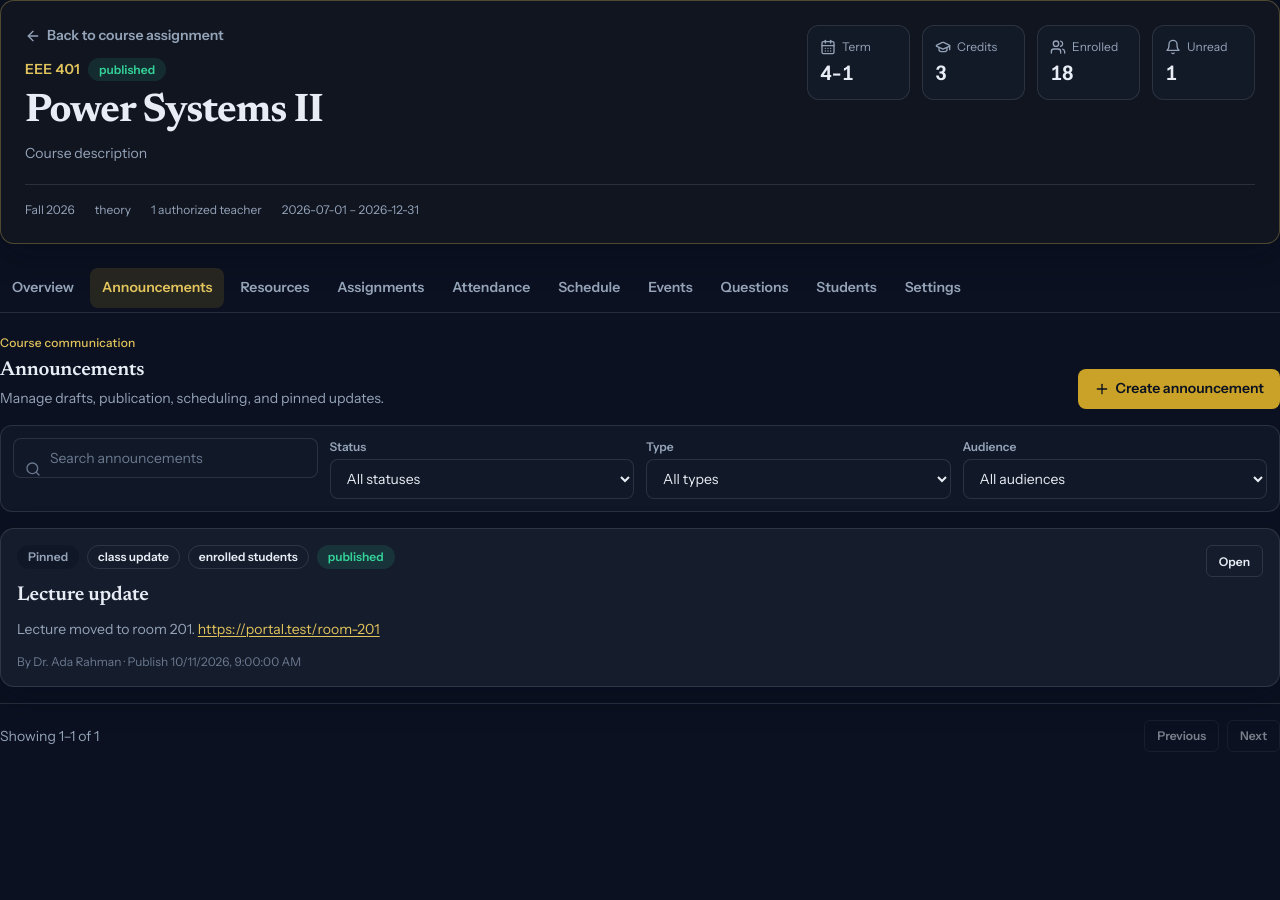
Scenario: CourseWorkspacePage › keeps the announcement dialog open after a save error and allows retry with the same entries
This screenshot has width=1280, height=900.
Click the button "Create announcement": (1179, 389) [1078,369,1279,409]
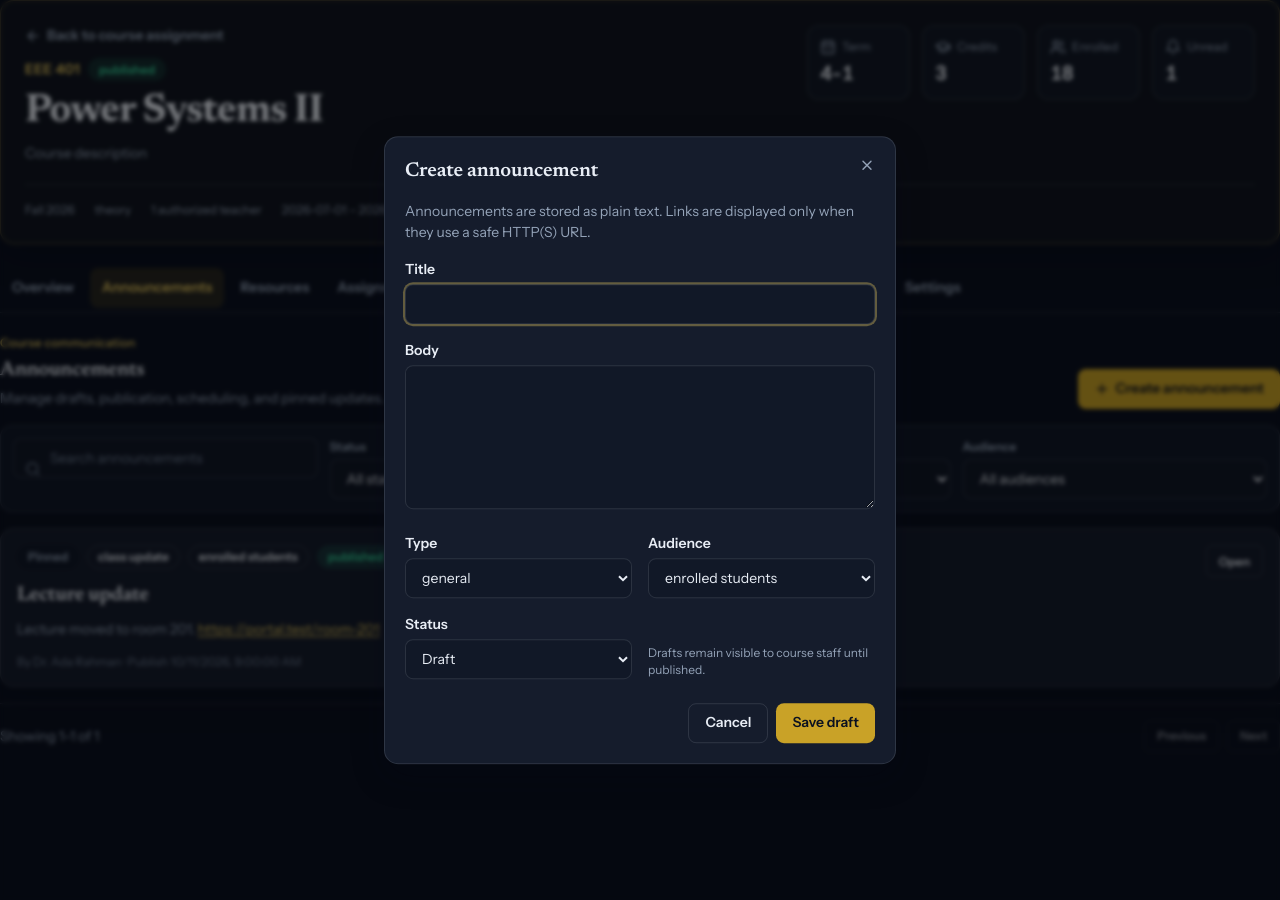
In the field labelled "Title": (640, 304) [405,284,875,324], type "Retry notice"
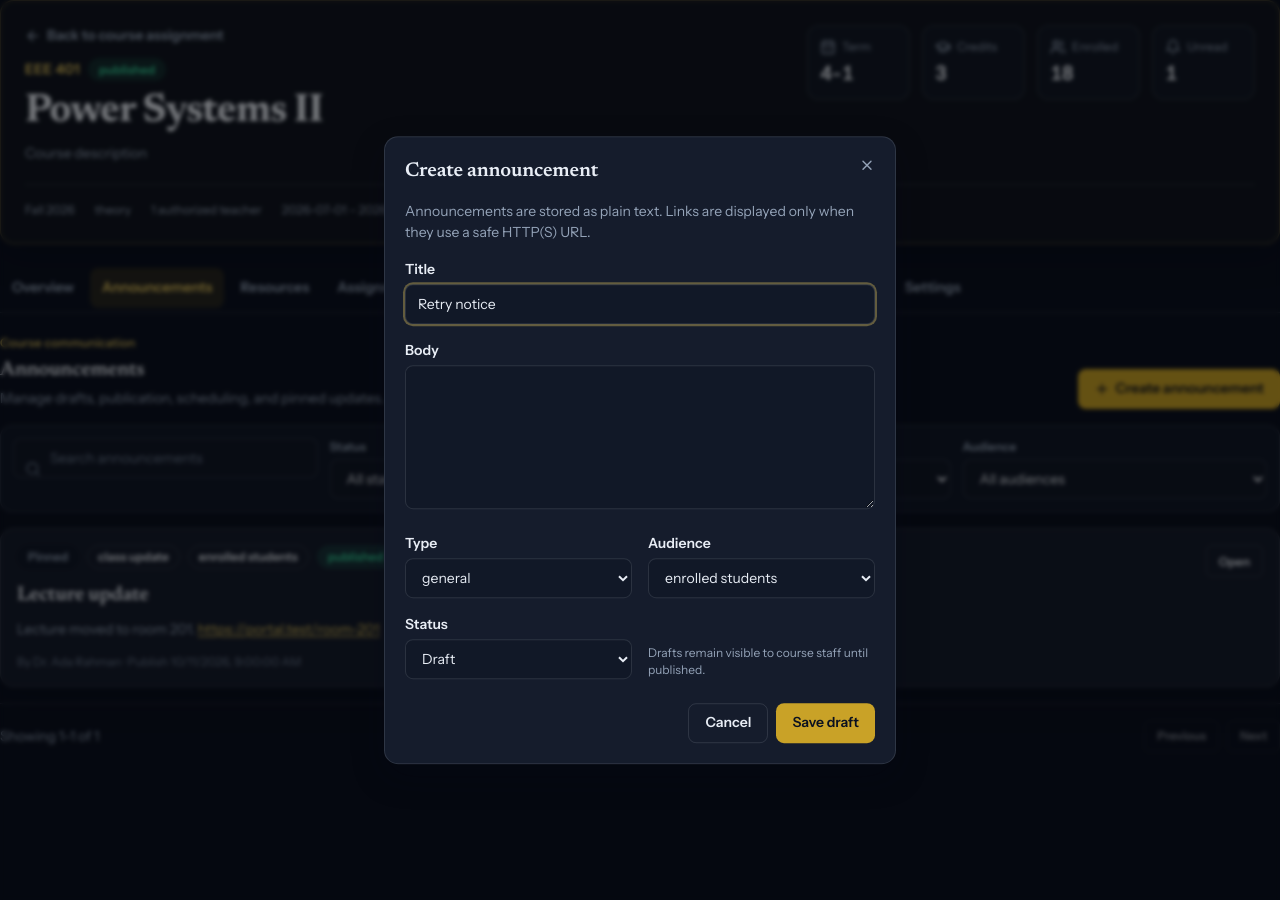
In the text box labelled "Body": (640, 437) [405,365,875,509], type "Keep this body"
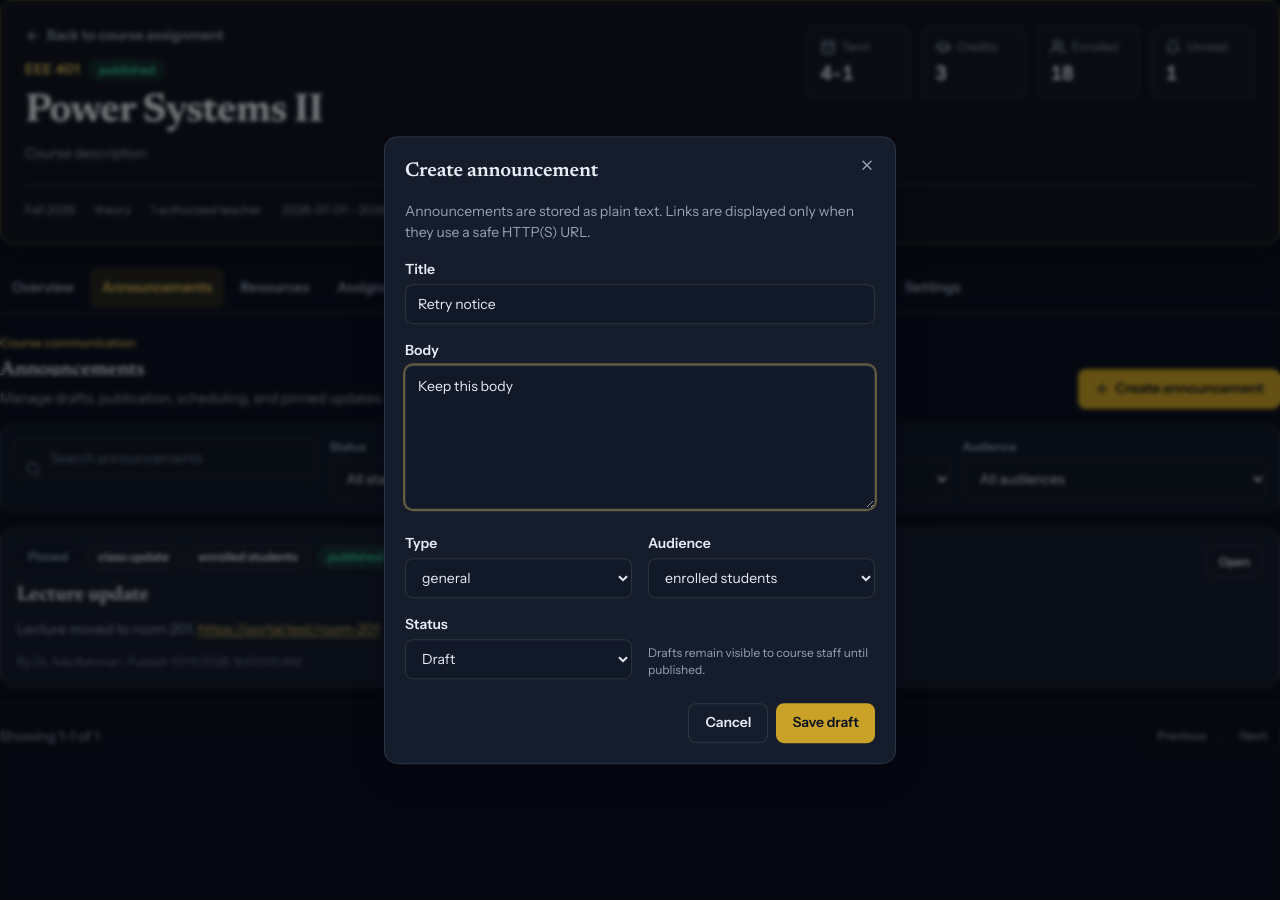
Click the button "Save draft": (826, 723) [776,703,875,743]
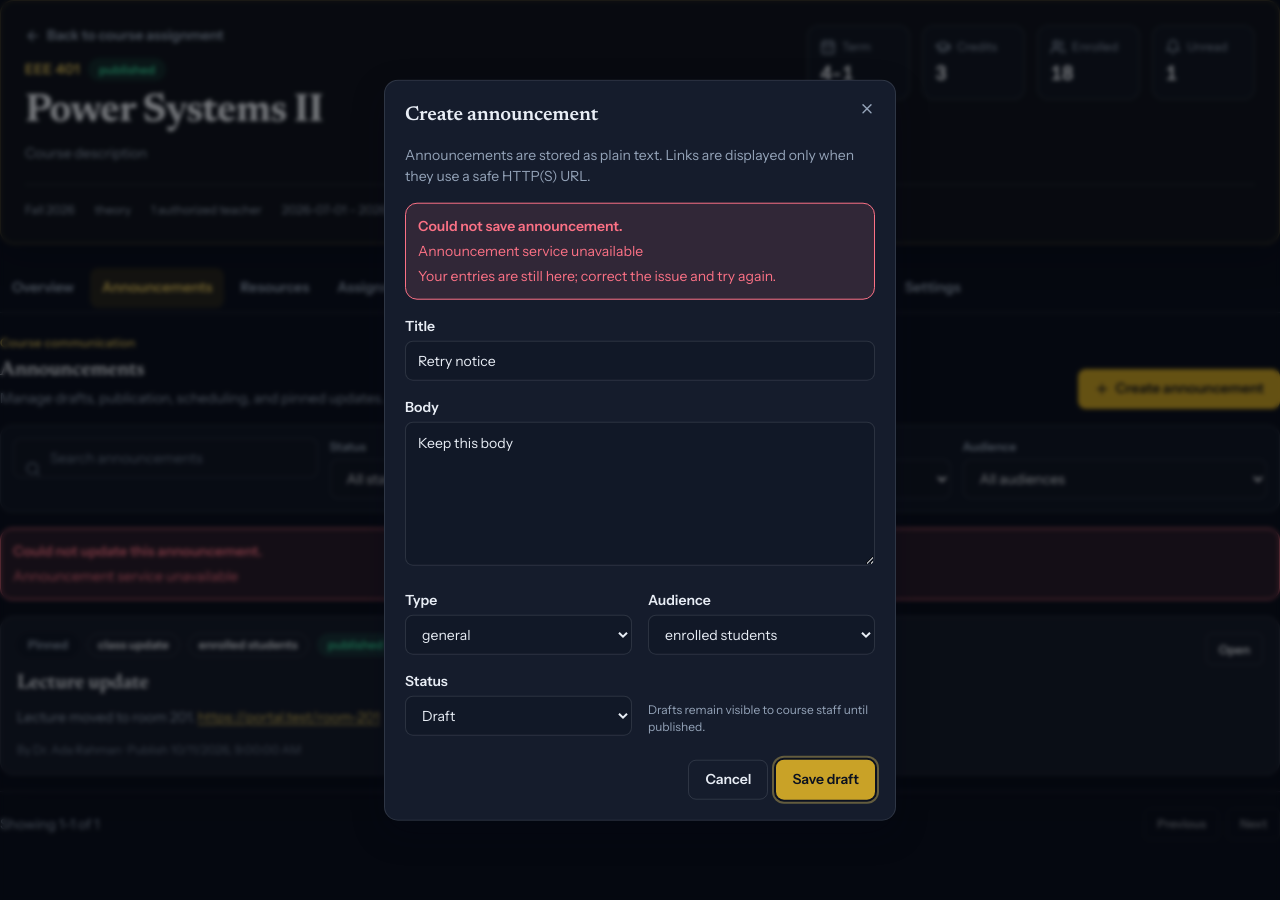
Result: the message shows "Announcement service unavailable" at [418,242,643,260]
Click the button "Save draft": (826, 779) [776,759,875,799]
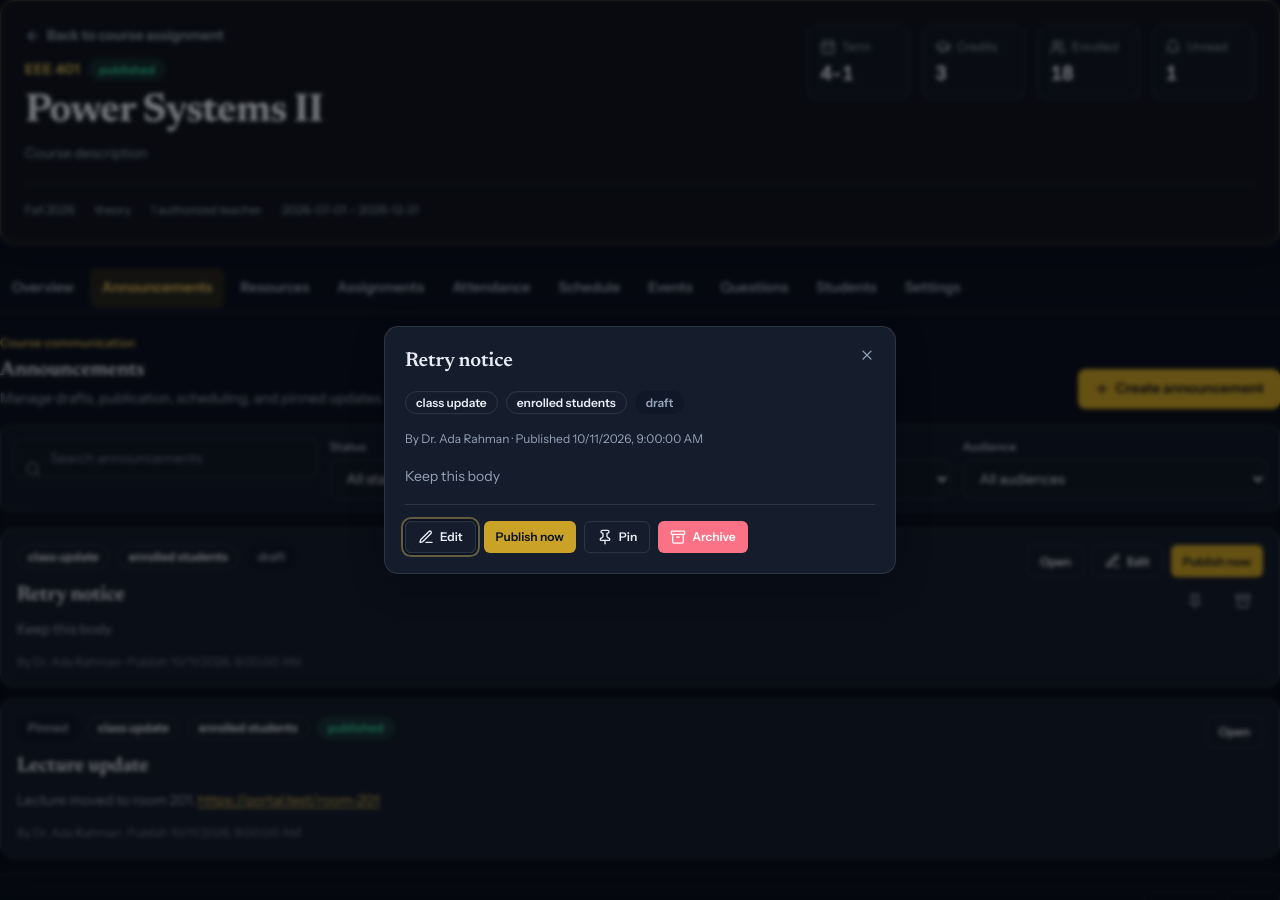
Result: the dialog "Retry notice" is shown at [384,326,896,574]
